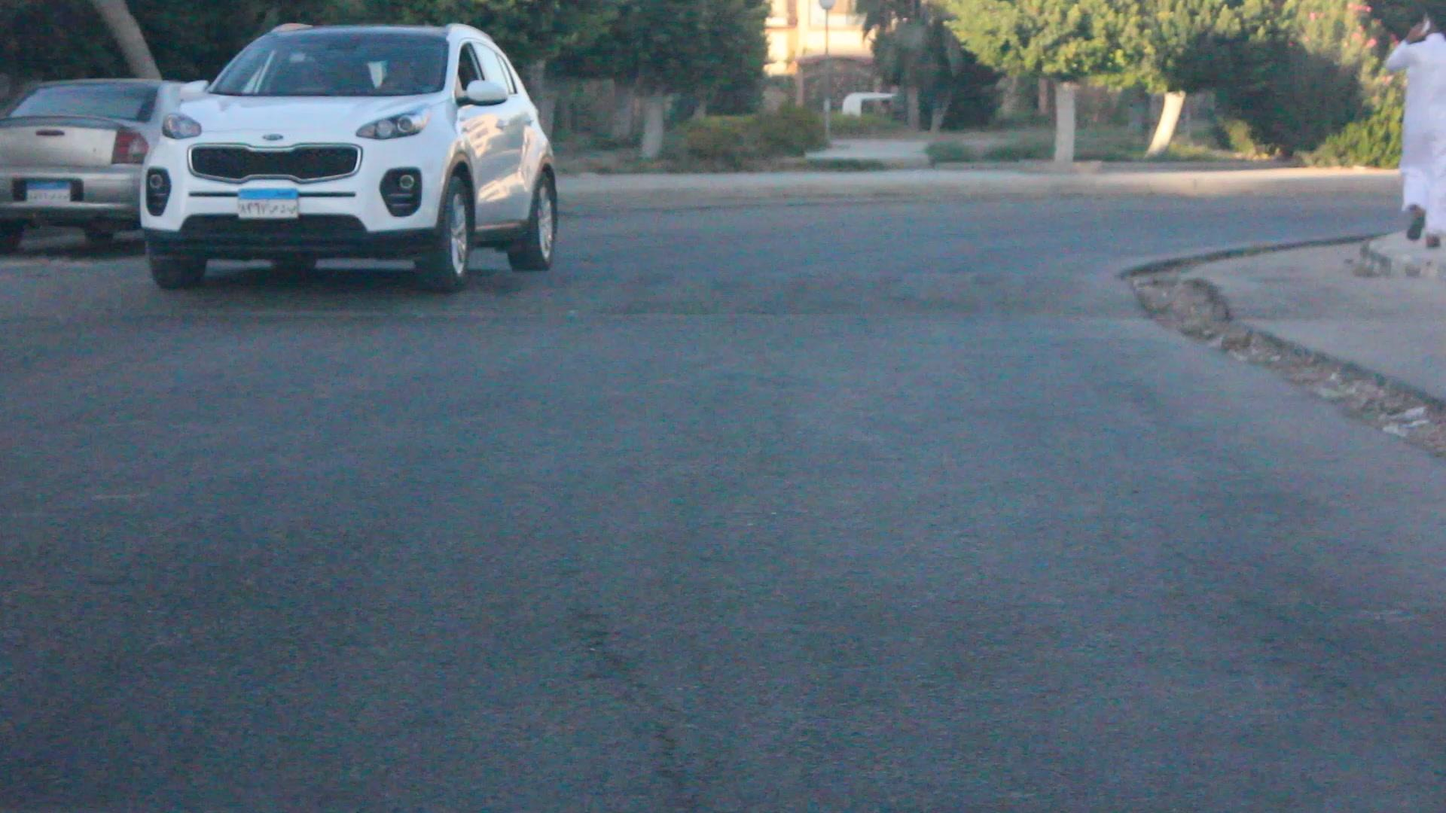Bump: (2, 252, 1143, 339)
